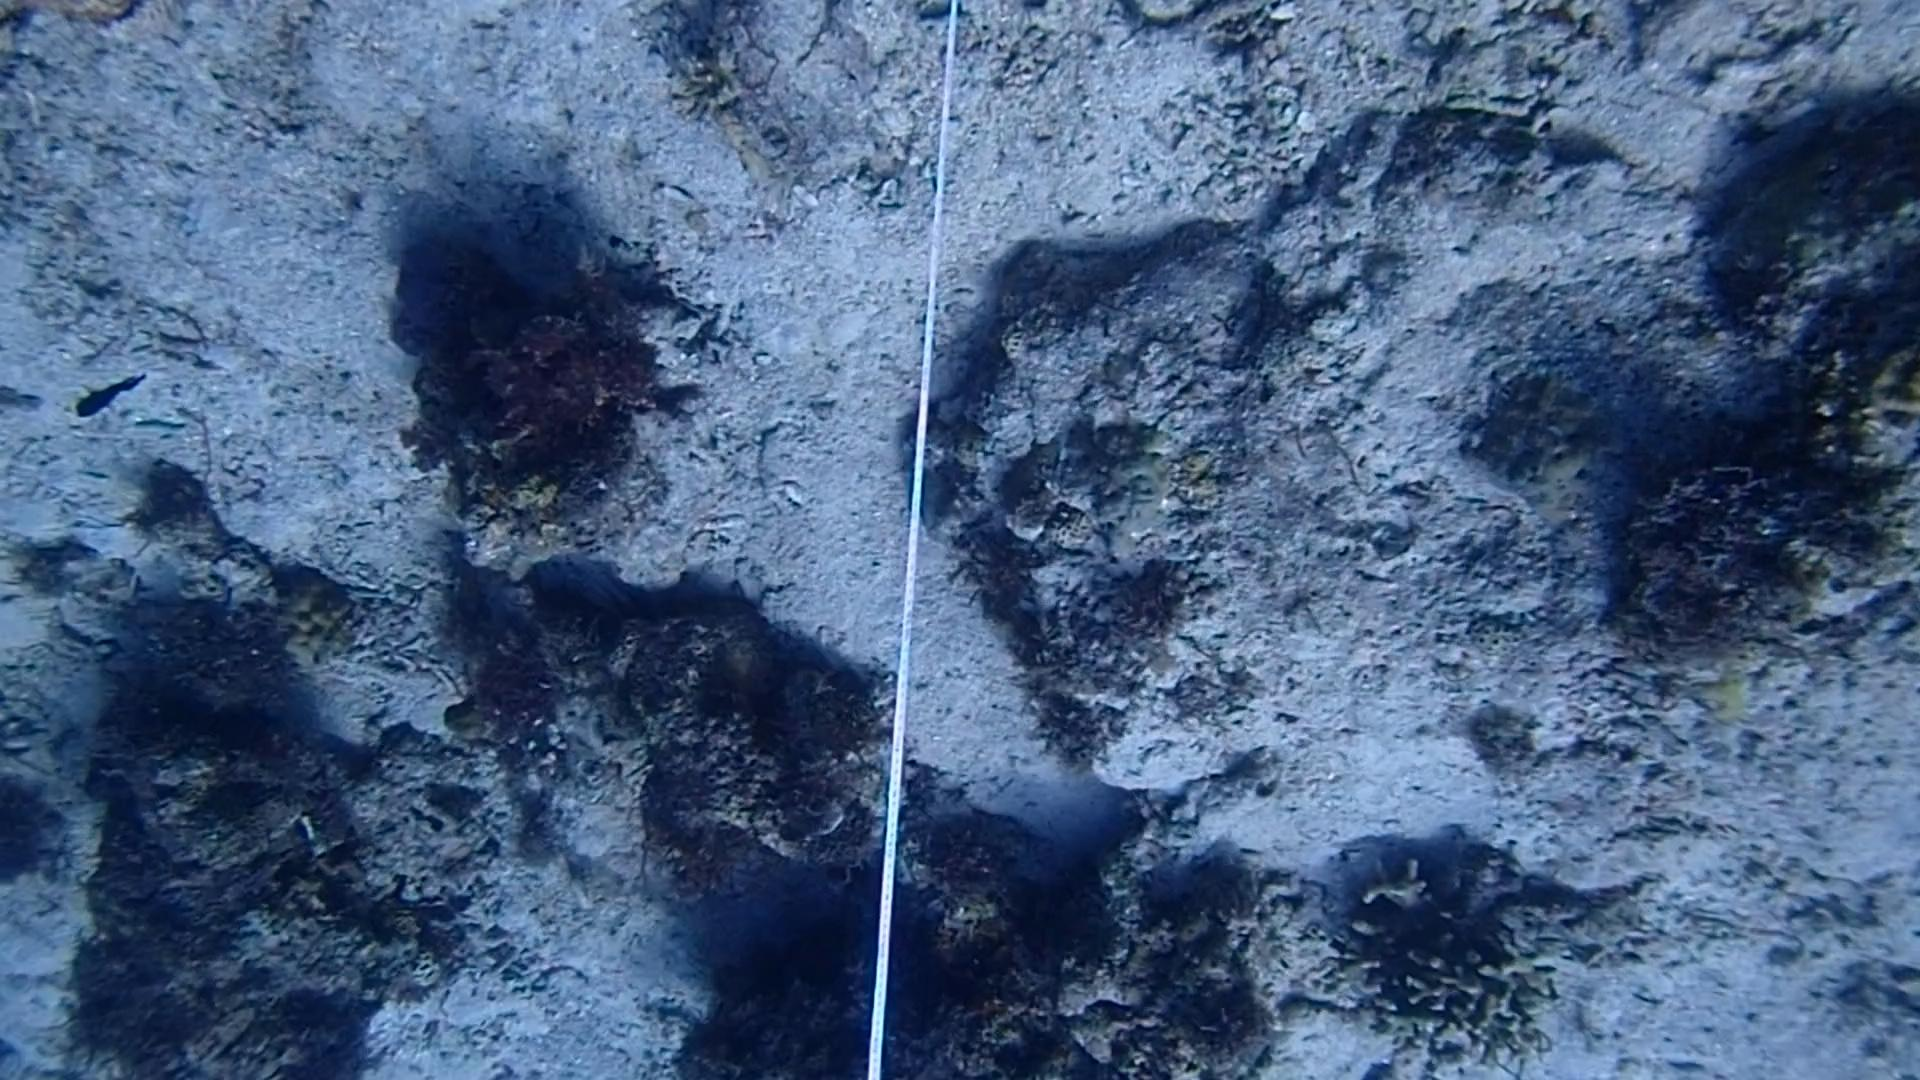Dark Fish: (59, 357, 165, 425)
